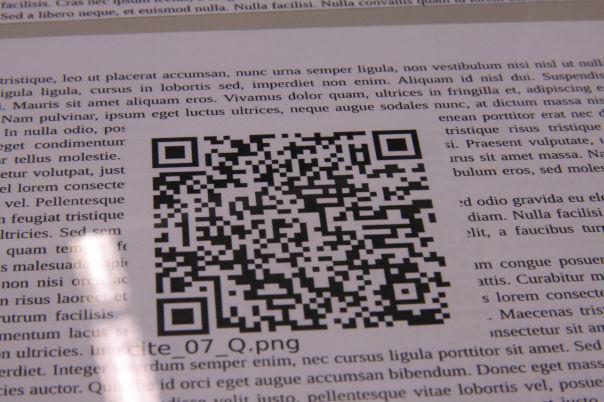Finder pattern: (151, 294, 215, 340), (143, 133, 207, 173), (368, 125, 427, 165)
